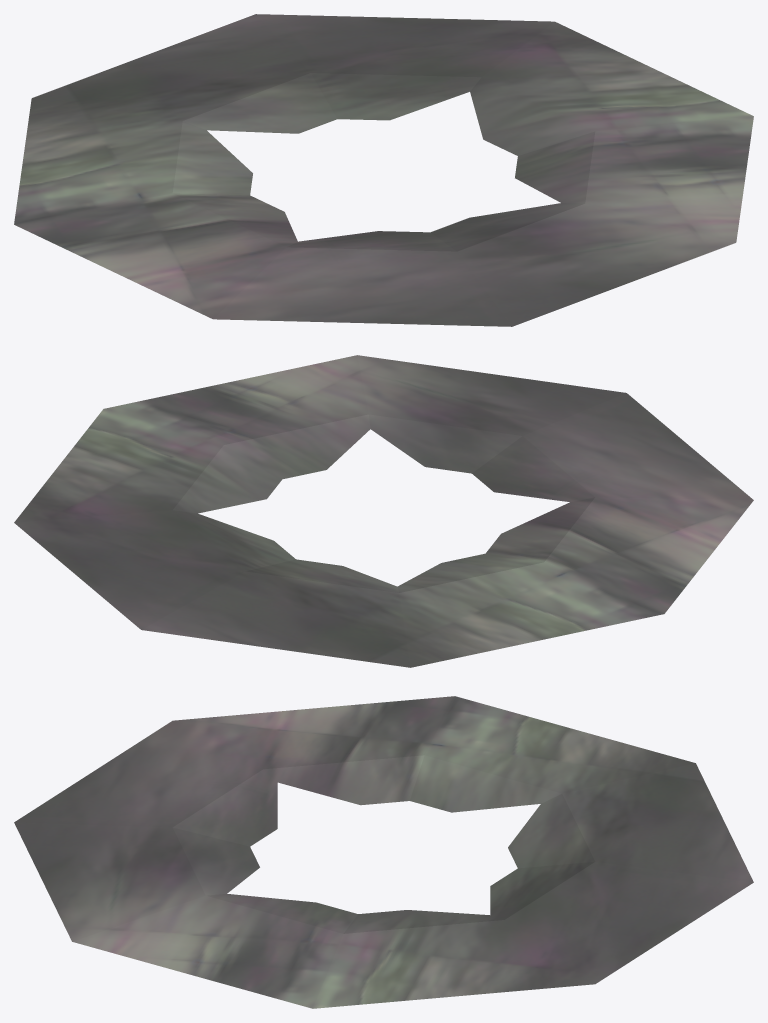
Rendered from TheOctagon_Floor_1_Roof.gltf.
The picture shows the model from 3 angles, top to bottom: view 1: azimuth 30°, elevation 25°; view 2: azimuth 150°, elevation 25°; view 3: azimuth 270°, elevation 25°; orthographic projection. The views are drawn at different scales.
Parts seen in each view (by area): view 1: TheOctagon_Floor_1_Roof; view 2: TheOctagon_Floor_1_Roof; view 3: TheOctagon_Floor_1_Roof.
Part boxes in pixels (bbox=[...]): TheOctagon_Floor_1_Roof: bbox=[14, 14, 753, 326]; TheOctagon_Floor_1_Roof: bbox=[14, 355, 753, 667]; TheOctagon_Floor_1_Roof: bbox=[14, 696, 753, 1008].
Size of the model in its own units: 80.76 by 1.56 by 80.76.
1 material, 1 textured.
